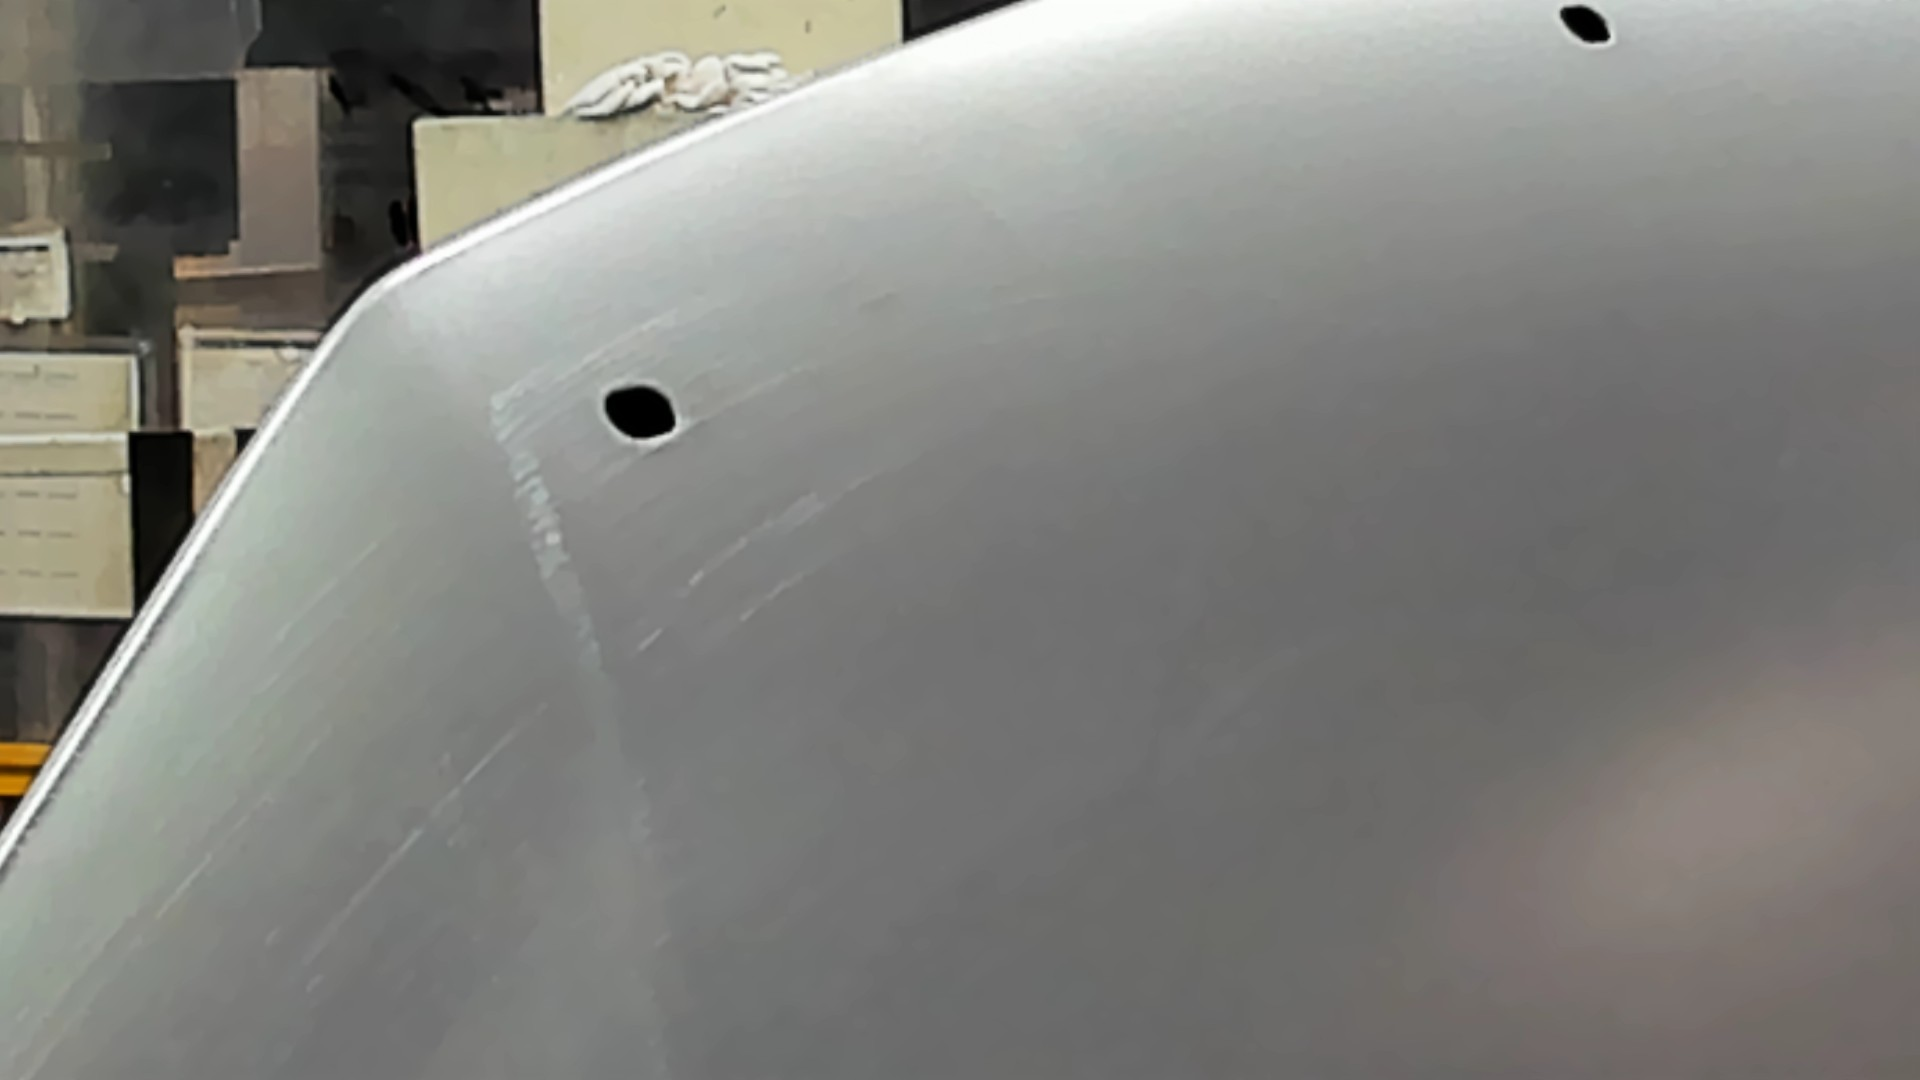amorfo: (592, 378, 702, 448), (1545, 1, 1625, 58)
capo: (814, 127, 1920, 1080)
